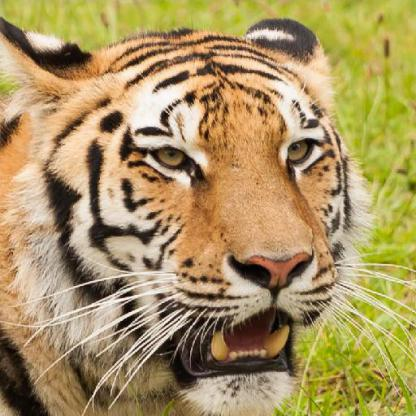tiger: (20, 44, 340, 378)
